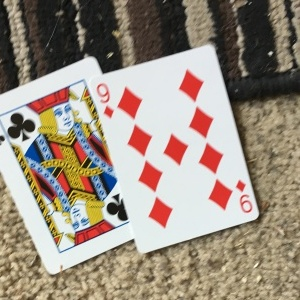card: (88, 43, 263, 257)
